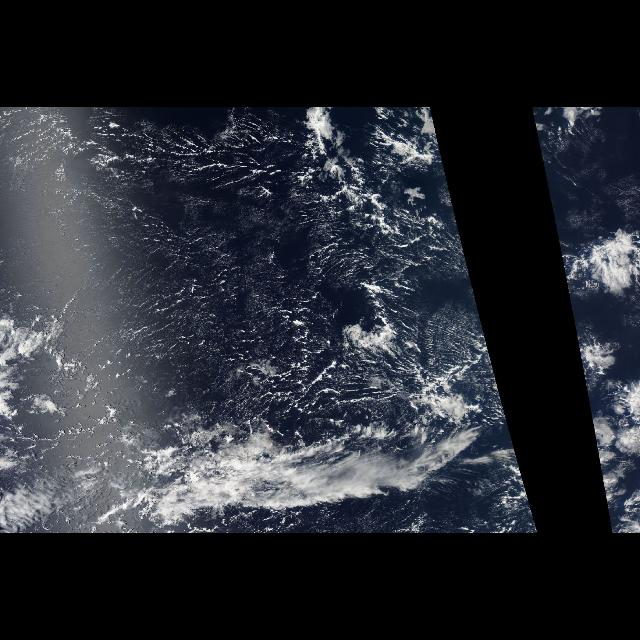Gravel: (322, 182, 463, 368)
Sugar: (31, 107, 365, 409)
